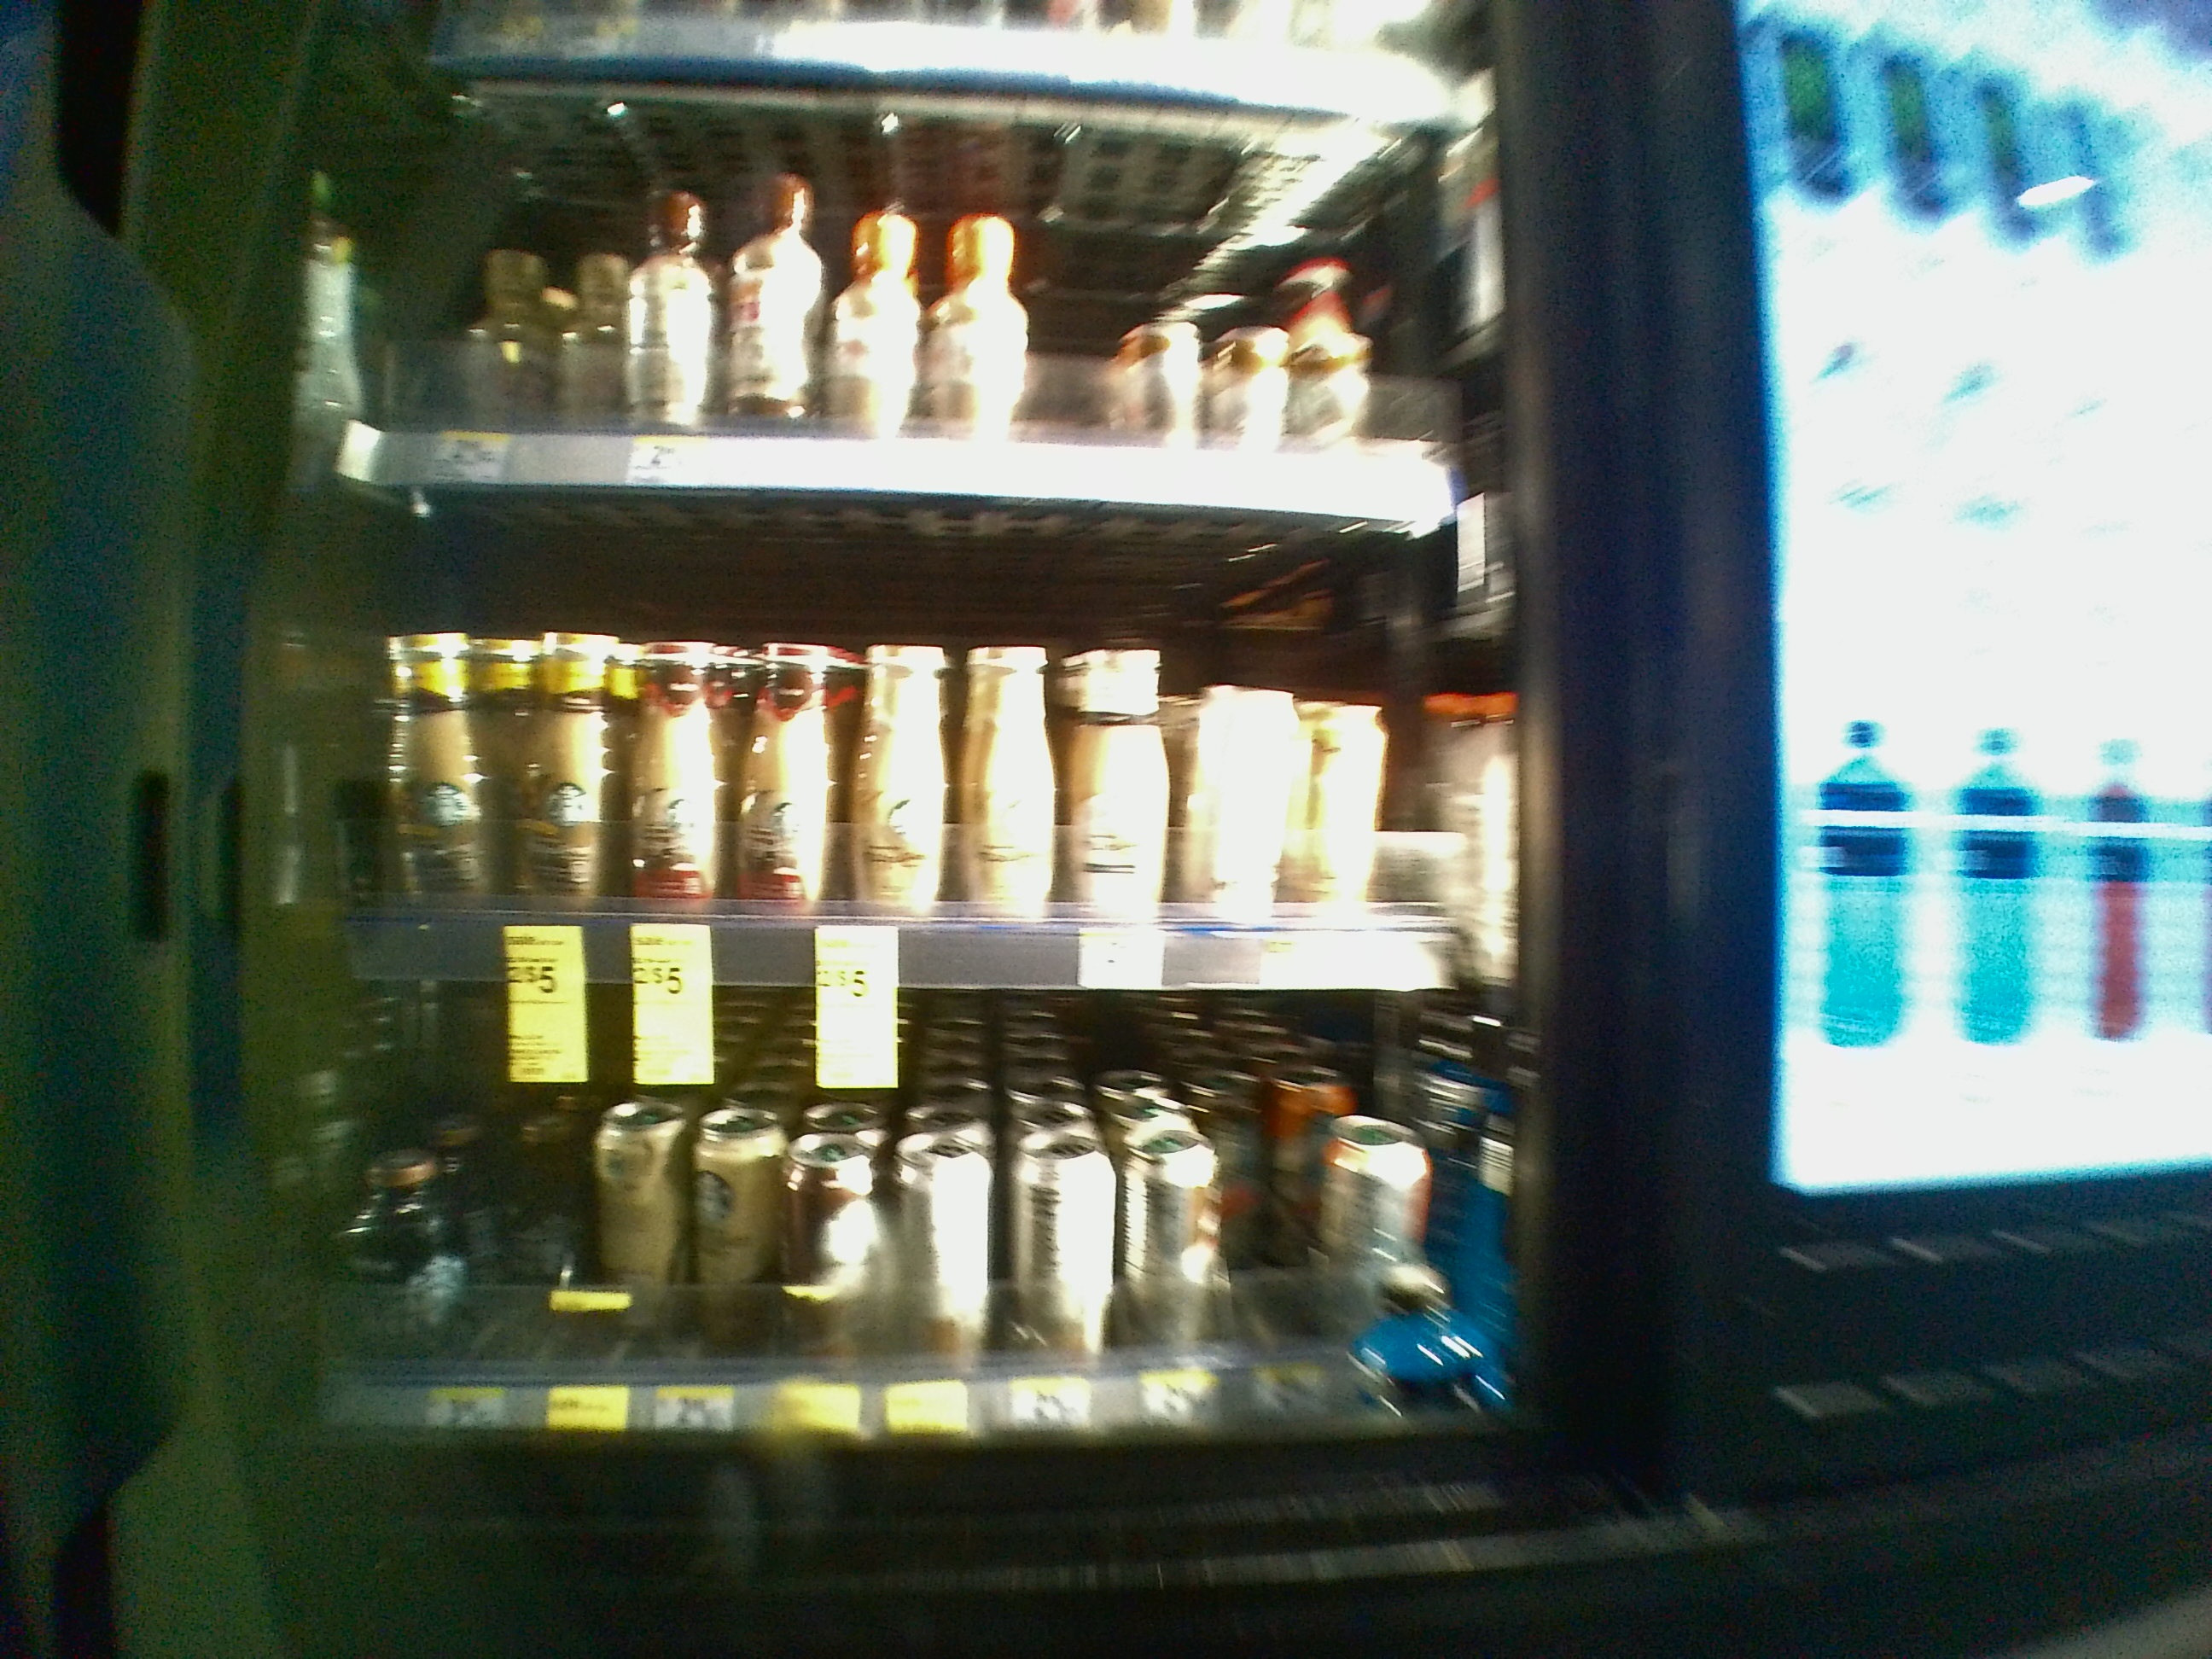shelf: (314, 498, 1550, 990), (296, 985, 1547, 1415)
